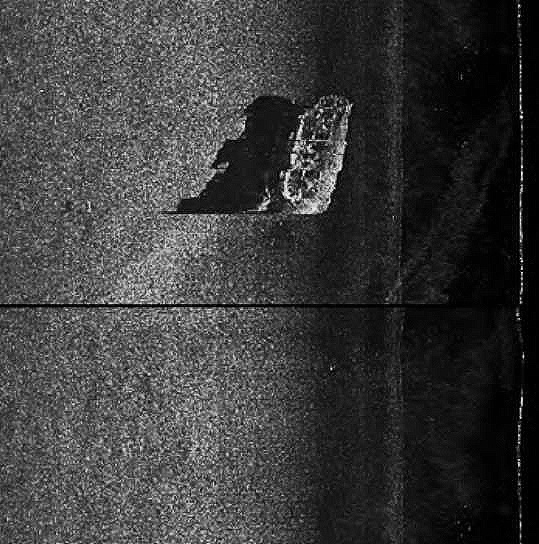ship: (275, 91, 354, 215)
